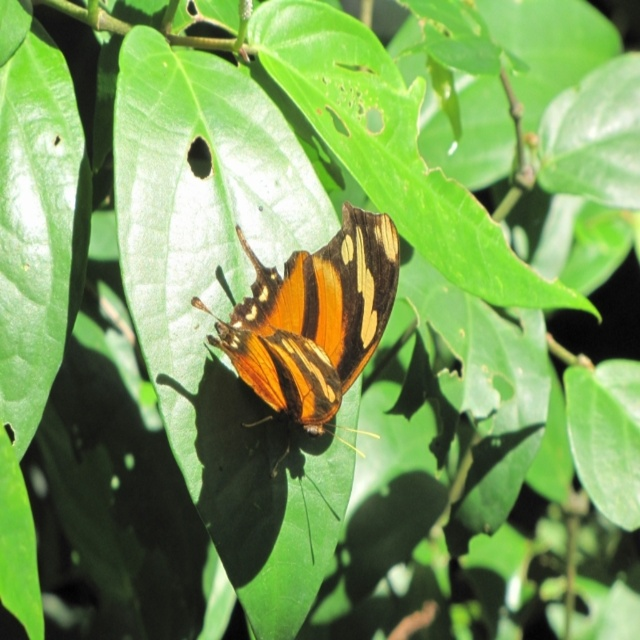Butterfly: (173, 187, 397, 474)
